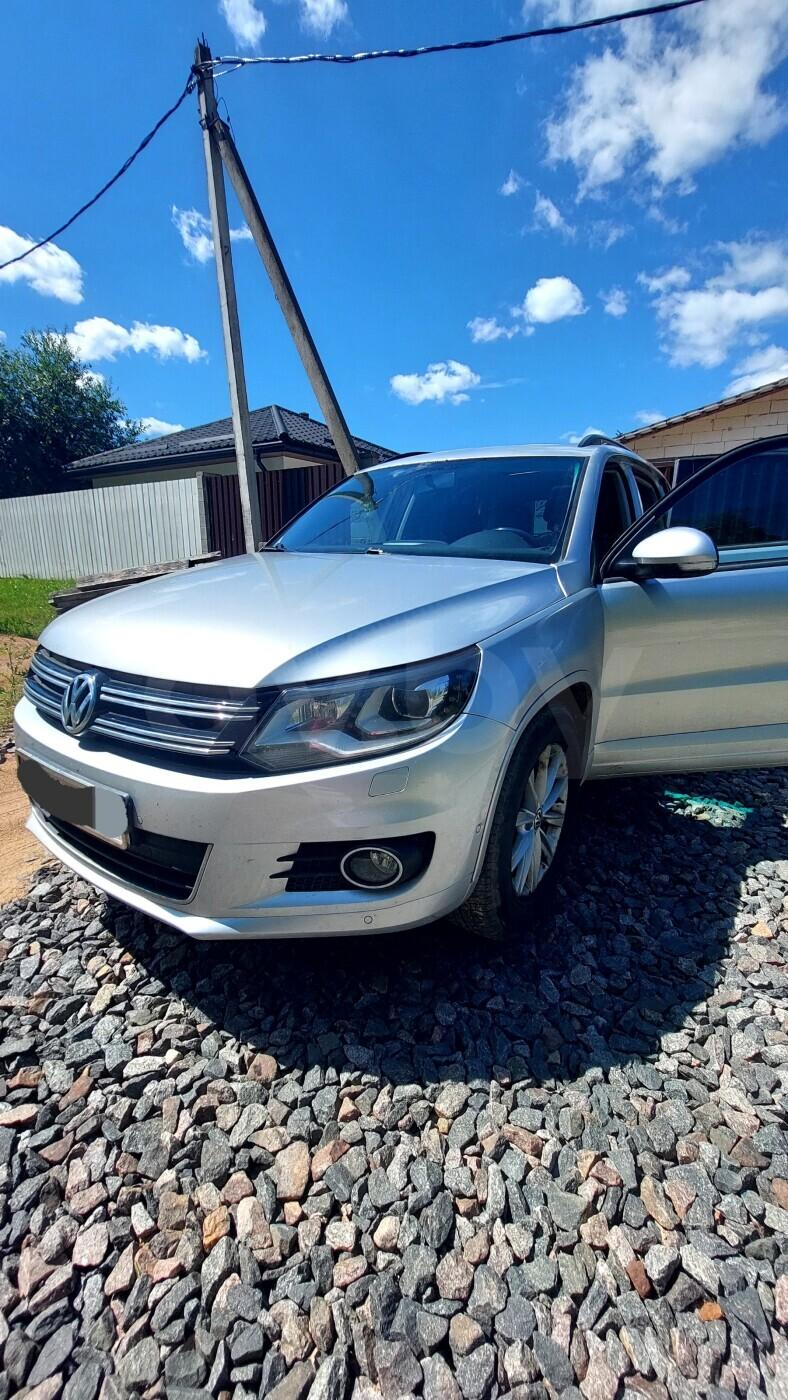Tiguan_2011-2018: (14, 432, 788, 962)
